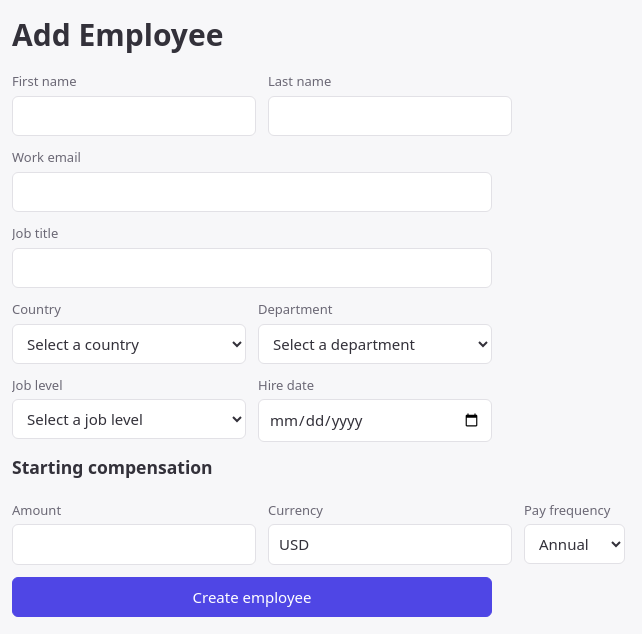
Scenario: NewEmployeePage › auto-fills the currency when a country is selected
Select "Indonesia" in the dropdown labelled "Country" at x=129, y=344, box [12, 324, 246, 364]
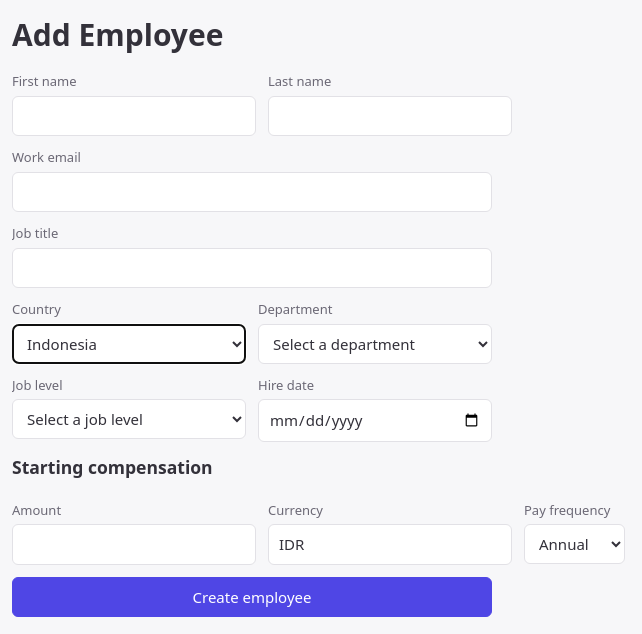
Check: the field labelled "Currency" holds "IDR", box [268, 524, 512, 565]
